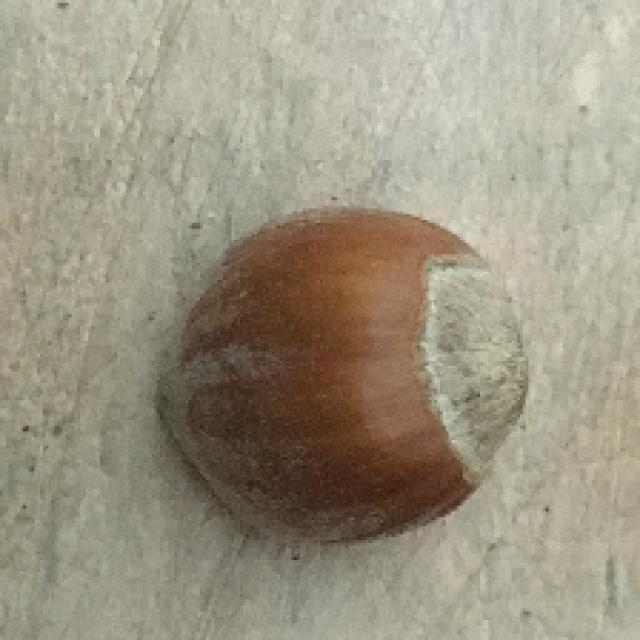qualityHazelnut: (159, 198, 535, 548)
